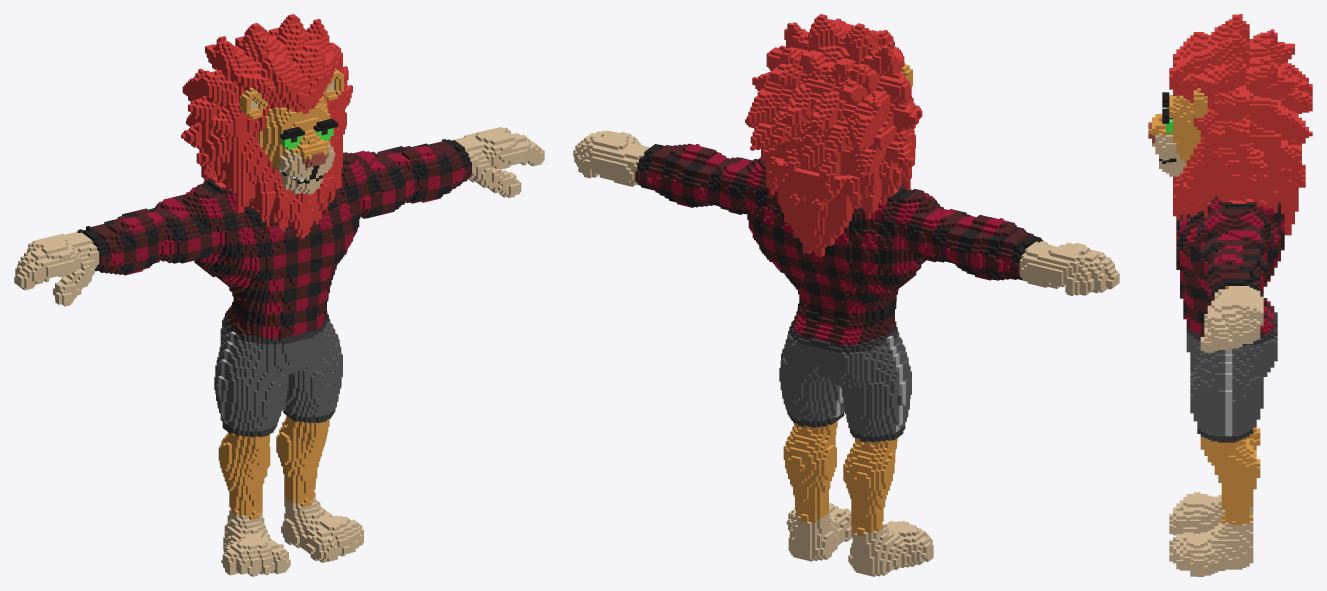
3 renders of one model, left to right at view 1: azimuth 30°, elevation 25°; view 2: azimuth 150°, elevation 25°; view 3: azimuth 270°, elevation 25°, orthographic. The views are drawn at different scales.
Visible parts, largest first — view 1: smirk; view 2: smirk; view 3: smirk.
Boxes of the visible parts, x1,y1,x2,y2 form: smirk: [14, 14, 544, 576]; smirk: [573, 14, 1119, 576]; smirk: [1148, 14, 1312, 576].
Bounding box in the file's own units: 17.2 × 16.5 × 4.7.
Materials: 5 (5 with a texture image).
